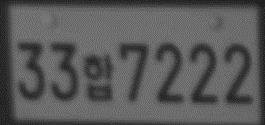2: (189, 42, 220, 105), (154, 41, 184, 105), (224, 42, 254, 105)
3: (16, 40, 46, 100), (50, 41, 78, 101)
7: (119, 41, 148, 102)
합: (82, 52, 115, 103)
